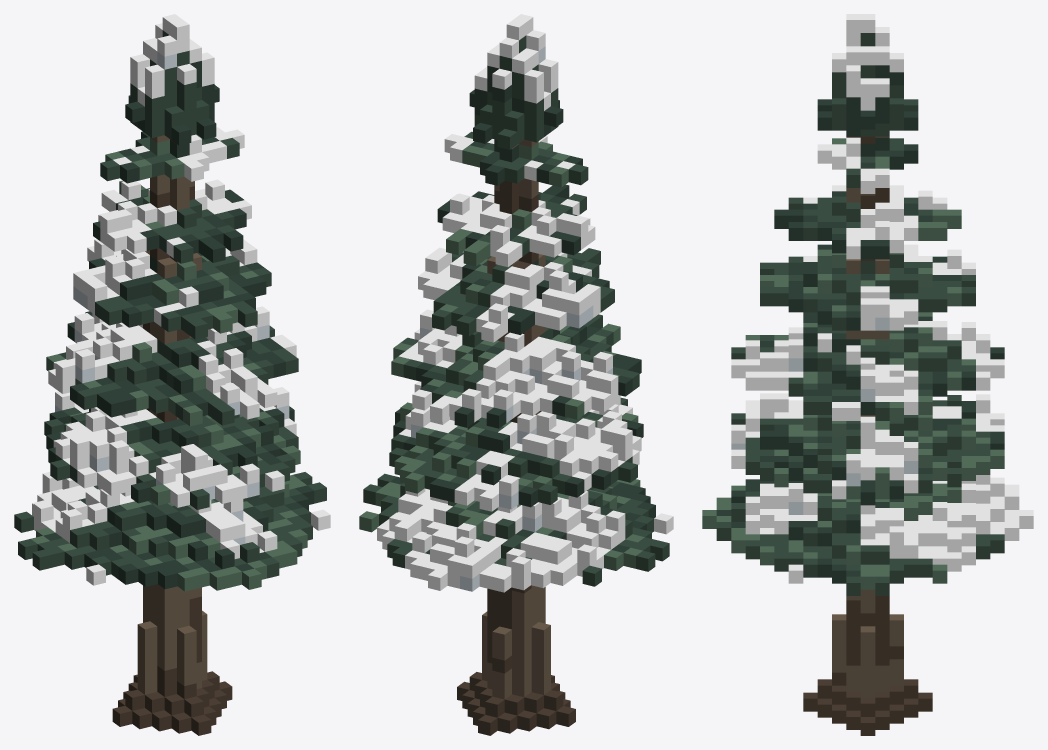
The model's file is SM_VoxelPine_Tree04.glb.
3 renders of one model, left to right at view 1: azimuth 30°, elevation 25°; view 2: azimuth 150°, elevation 25°; view 3: azimuth 270°, elevation 25°, orthographic.
Visible parts, largest first — view 1: SM_VoxelPine_Tree04; view 2: SM_VoxelPine_Tree04; view 3: SM_VoxelPine_Tree04.
Part boxes in pixels (left/top/right/bottom): SM_VoxelPine_Tree04: left=14, top=14, right=330, bottom=735; SM_VoxelPine_Tree04: left=359, top=14, right=673, bottom=735; SM_VoxelPine_Tree04: left=702, top=14, right=1033, bottom=735.
Bounding box in the file's own units: 4.6 × 10.6 × 4.6.
1 material, 1 textured.
